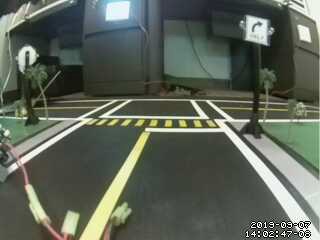Right_only_sign: (238, 10, 271, 55)
